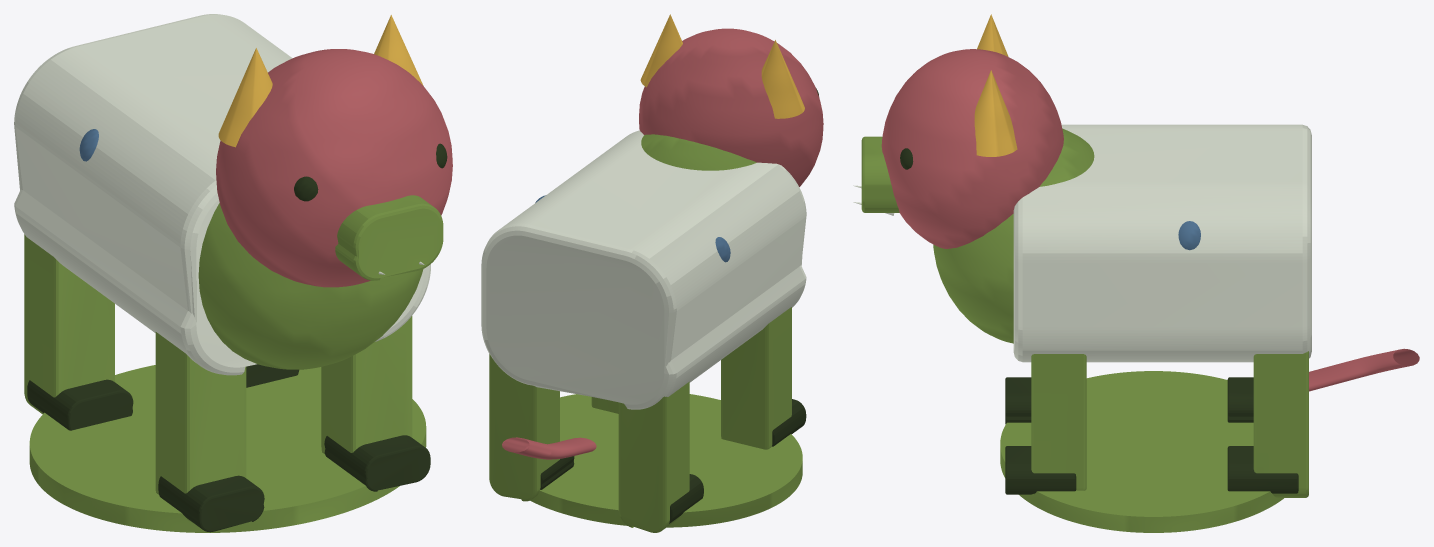
The model's file is 0308_古生代动物图鉴_空尾蜥.glb.
The picture shows the model from 3 angles, left to right: view 1: azimuth 30°, elevation 25°; view 2: azimuth 150°, elevation 25°; view 3: azimuth 270°, elevation 25°; orthographic projection. The views are drawn at different scales.
Parts seen in each view (by area): view 1: card_0308; view 2: card_0308; view 3: card_0308.
Boxes of the visible parts, bbox=[...] form: card_0308: bbox=[14, 14, 452, 532]; card_0308: bbox=[481, 14, 823, 532]; card_0308: bbox=[853, 14, 1419, 532].
Bounding box in the file's own units: 0.7484 × 1 × 1.23.
